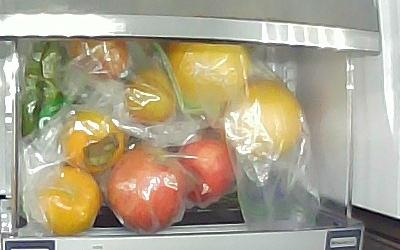apple_vinyl: (105, 146, 187, 234), (178, 135, 236, 203)
grapefruit_vinyl: (168, 42, 248, 103), (238, 82, 301, 157)
persimmon_vinyl: (38, 167, 101, 236), (62, 111, 127, 174)
prune_vinyl: (123, 72, 175, 124), (71, 40, 128, 79)
